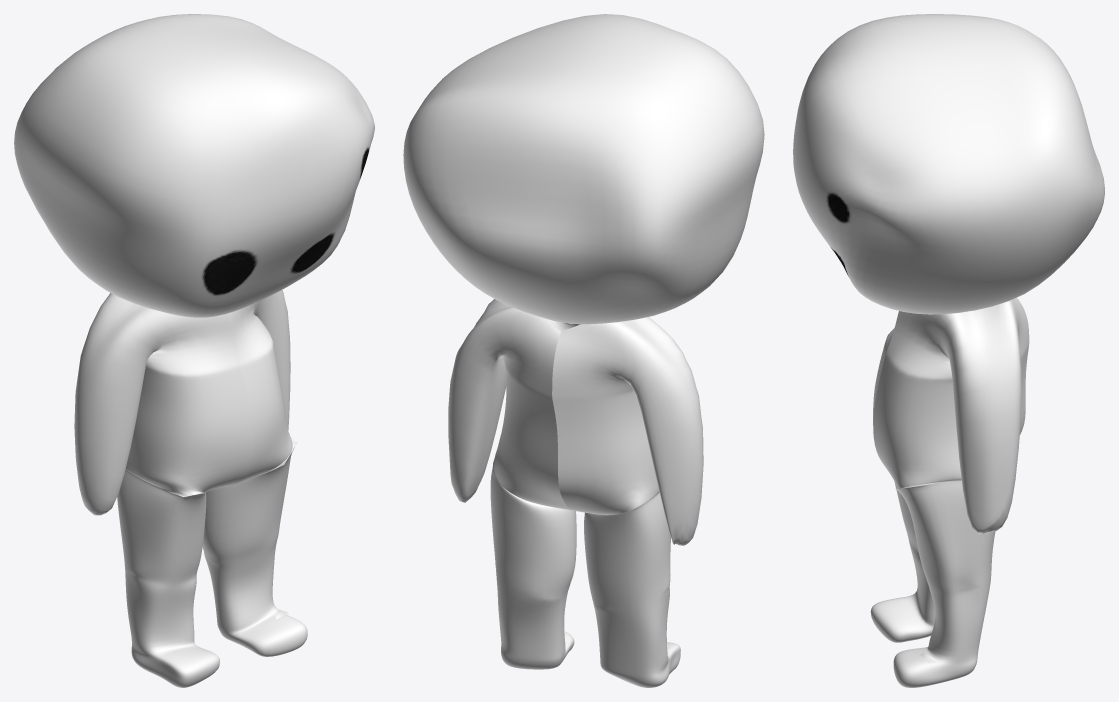
File: spirit2.fbx
3 views of the same model, side by side, from view 1: azimuth 30°, elevation 25°; view 2: azimuth 150°, elevation 25°; view 3: azimuth 270°, elevation 25° (orthographic). The views are drawn at different scales.
Visible parts, largest first — view 1: pCube5; view 2: pCube5; view 3: pCube5.
Part boxes in pixels (x1=…): pCube5: x1=14, y1=14, x2=374, y2=687; pCube5: x1=403, y1=14, x2=764, y2=687; pCube5: x1=793, y1=14, x2=1104, y2=687.
Bounding box in the file's own units: 1.29 × 2.56 × 1.19.
Materials: 1 (1 with a texture image).
